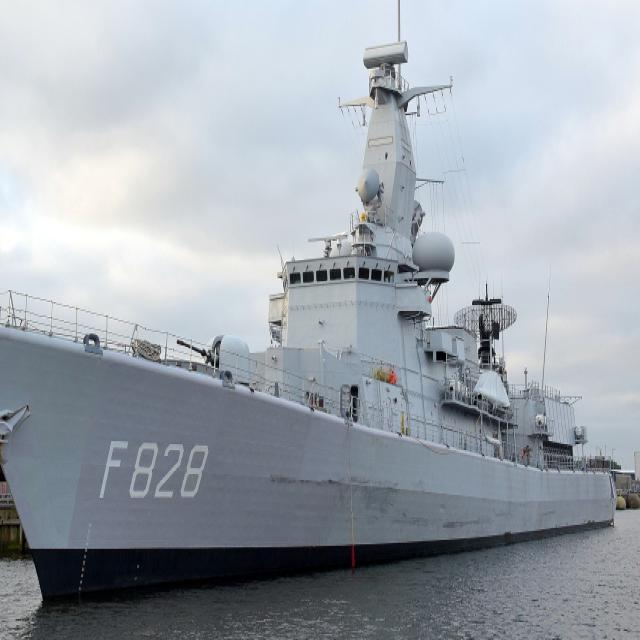Fragata: (1, 1, 627, 620)
